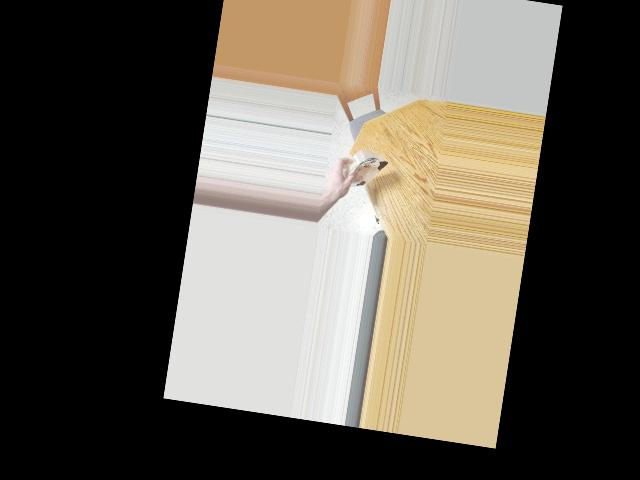cheese: (341, 140, 390, 203)
